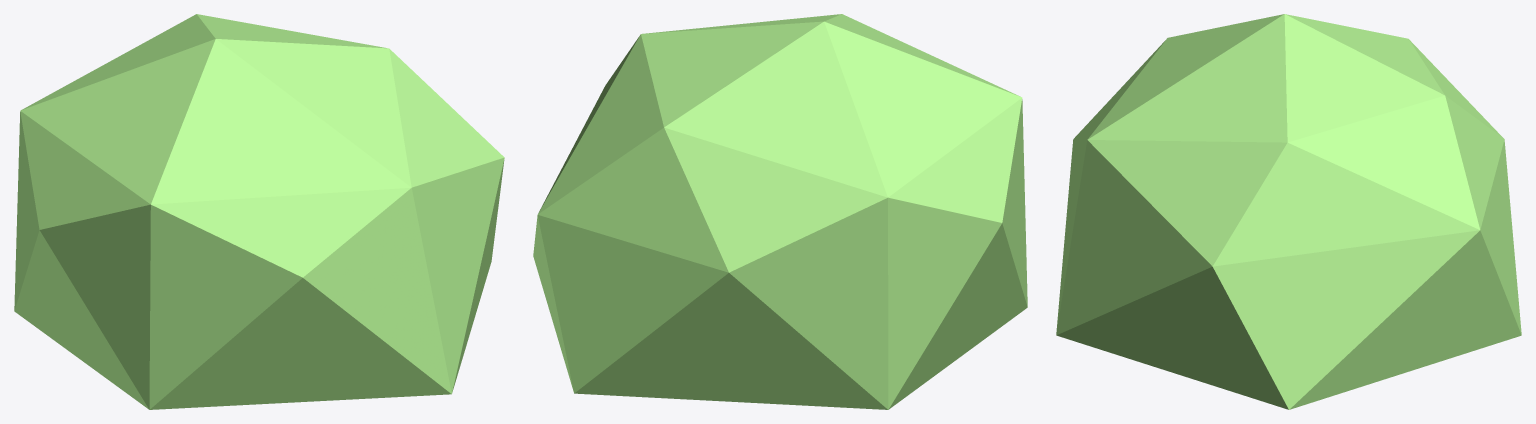
File: Bush_h_m_03.fbx
3 renders of one model, left to right at view 1: azimuth 30°, elevation 25°; view 2: azimuth 150°, elevation 25°; view 3: azimuth 270°, elevation 25°, orthographic. The views are drawn at different scales.
Visible parts, largest first — view 1: Bush_h_m_03; view 2: Bush_h_m_03; view 3: Bush_h_m_03.
Boxes of the visible parts, box(x1,y1,x2,y2) form: Bush_h_m_03: box(14, 14, 504, 409); Bush_h_m_03: box(533, 14, 1027, 409); Bush_h_m_03: box(1056, 14, 1521, 409).
Size of the model in its own units: 131 by 81.16 by 127.
